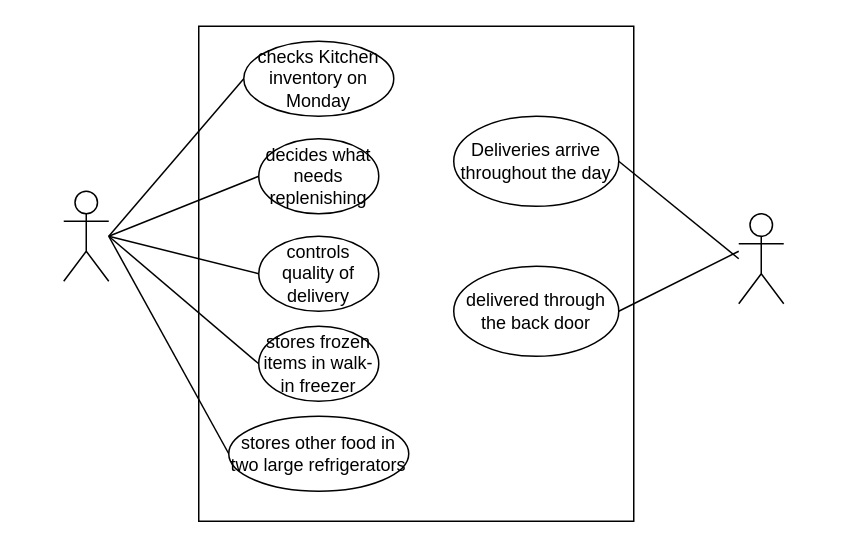
Some shapes in this 842 by 548 pixel diagram are drawn without their labels. The centre of each missing label's shape, as x and y in pixels:
"Executive Chef" belongs at point 85,235.
"Food supplier" belongs at point 760,258.
